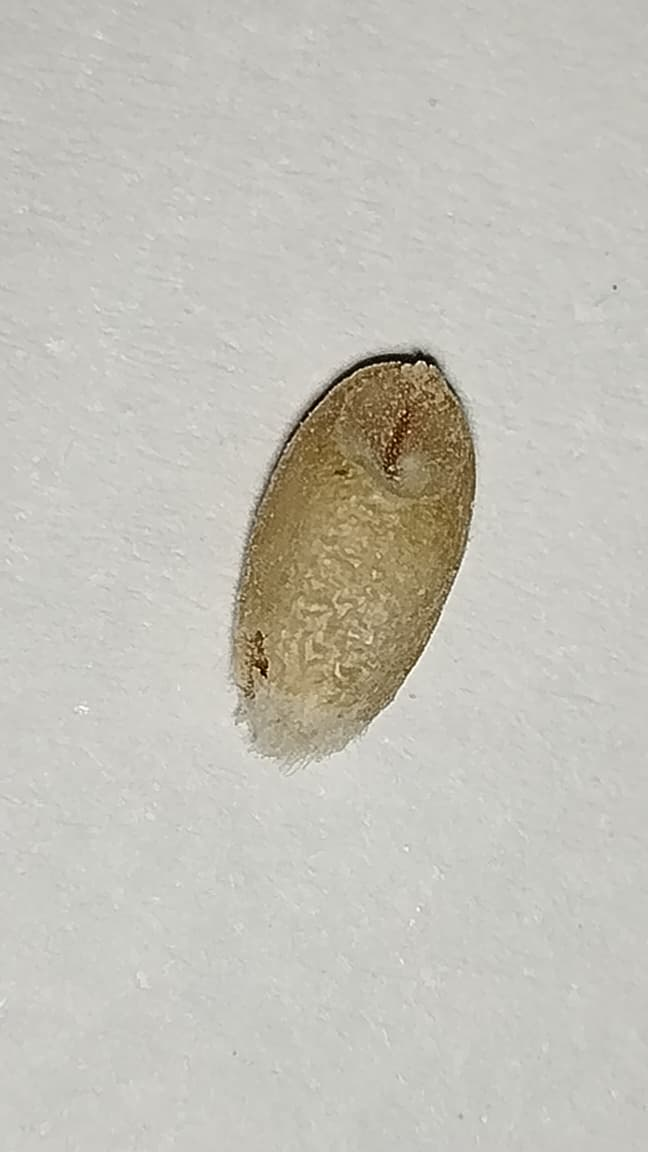damage: (233, 358, 476, 762)
insectdamage: (328, 361, 477, 551), (212, 577, 281, 737)
